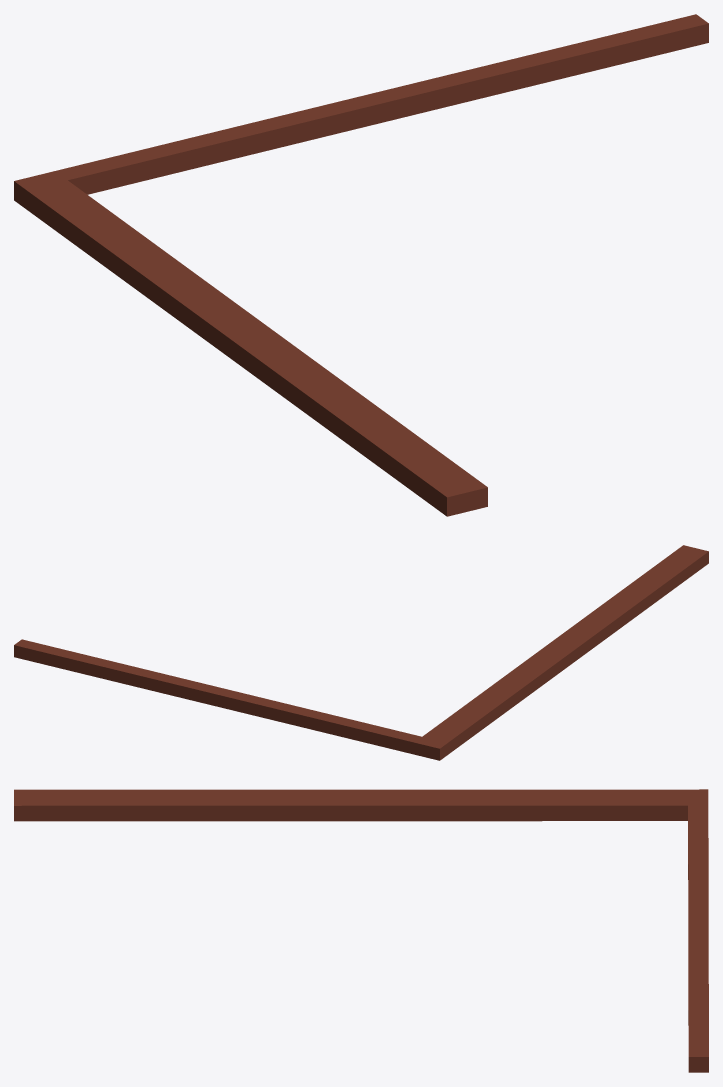
Rendered from lib_cornerlattice.fbx.
The picture shows the model from 3 angles, top to bottom: view 1: azimuth 30°, elevation 25°; view 2: azimuth 150°, elevation 25°; view 3: azimuth 270°, elevation 25°; orthographic projection. The views are drawn at different scales.
Parts seen in each view (by area): view 1: Plane; view 2: Plane; view 3: Plane.
Part boxes in pixels (x1=…): Plane: x1=14, y1=14, x2=708, y2=516; Plane: x1=14, y1=545, x2=708, y2=760; Plane: x1=14, y1=789, x2=708, y2=1072.
Bounding box in the file's own units: 9132 × 247 × 10028.
